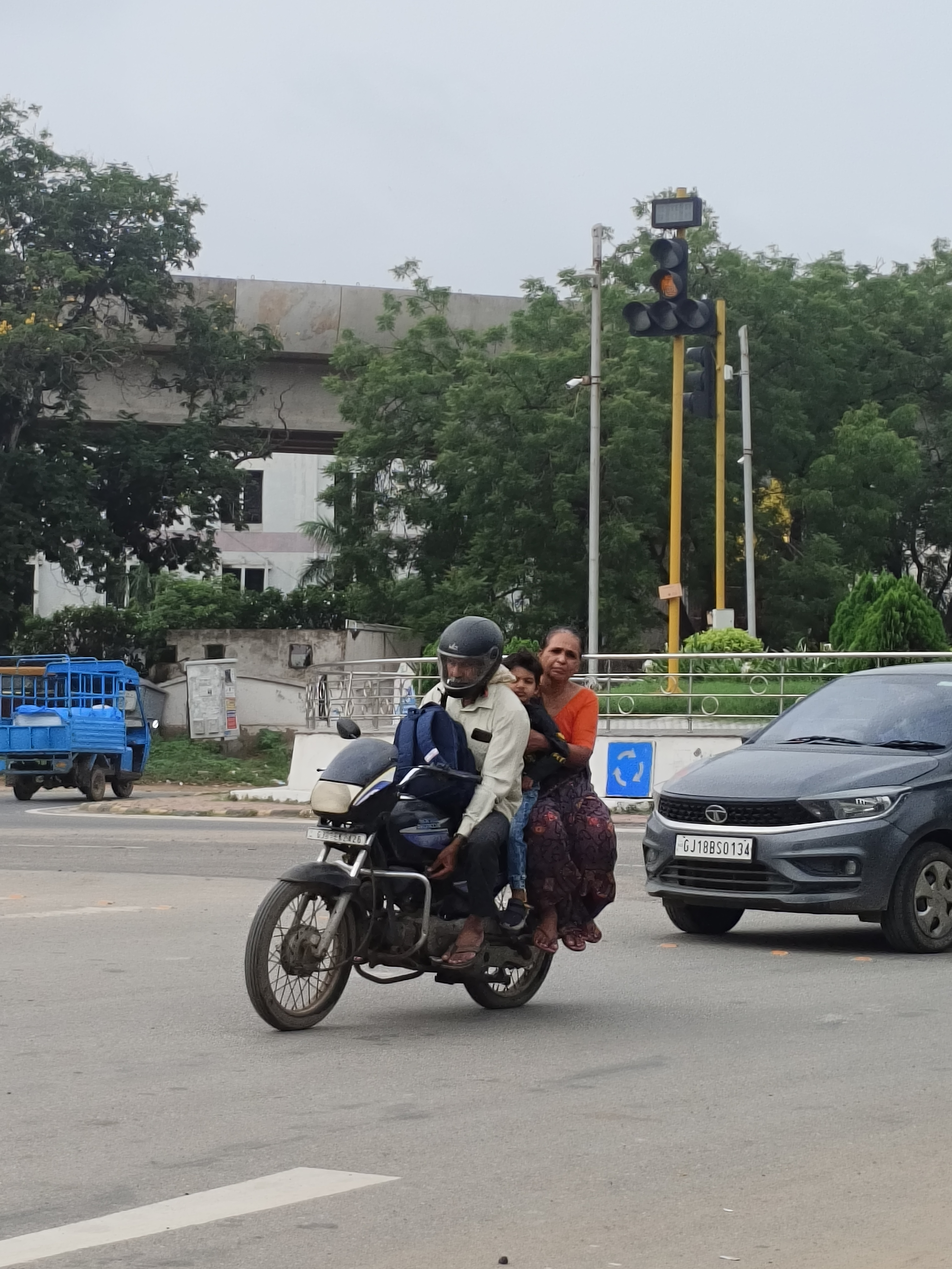BikeWithRider: (229, 607, 627, 1039)
Helmet: (425, 607, 513, 699)
NoHelmet: (534, 619, 590, 691), (495, 643, 549, 706)
